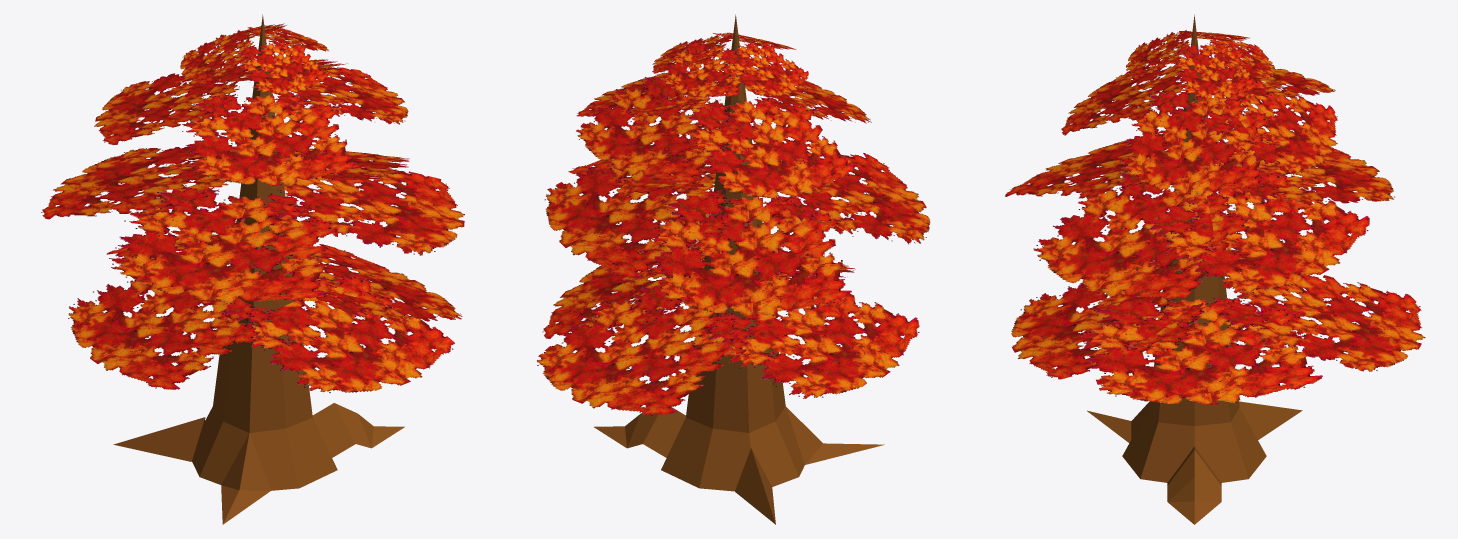
The model's file is maple tree.glb.
3 renders of one model, left to right at view 1: azimuth 30°, elevation 25°; view 2: azimuth 150°, elevation 25°; view 3: azimuth 270°, elevation 25°, orthographic.
Parts seen in each view (by area): view 1: mapletree; view 2: mapletree; view 3: mapletree.
Part boxes in pixels (x1=…): mapletree: x1=41, y1=14, x2=464, y2=524; mapletree: x1=537, y1=14, x2=930, y2=524; mapletree: x1=1005, y1=14, x2=1425, y2=524.
Bounding box in the file's own units: 1.9 × 2.11 × 1.99.
Materials: 2 (1 with a texture image).
